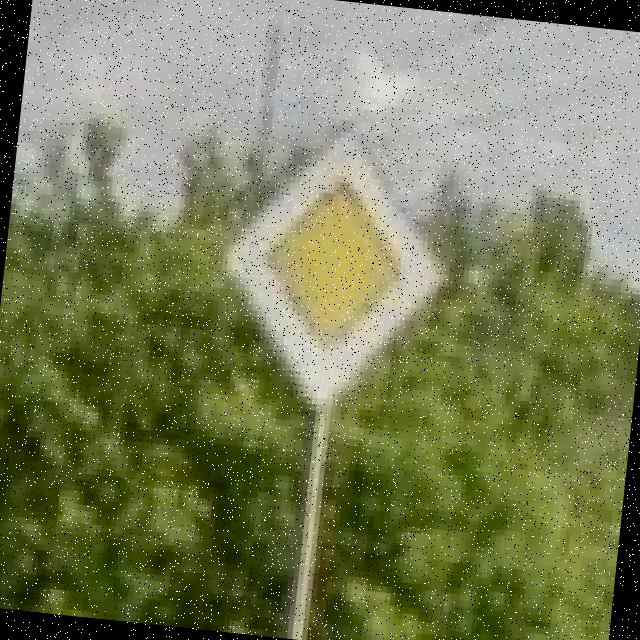Droga z pierwszenstwem: (202, 114, 463, 429)
